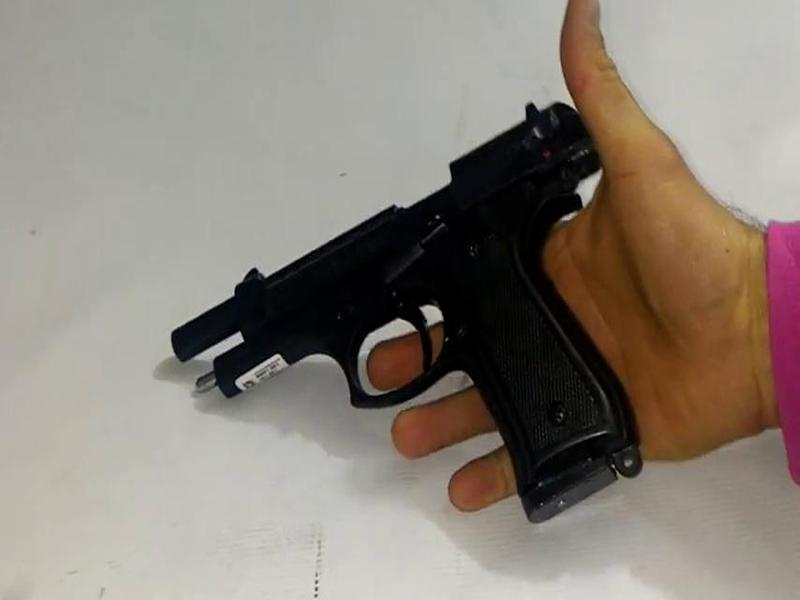Pistola: (157, 80, 670, 543)
